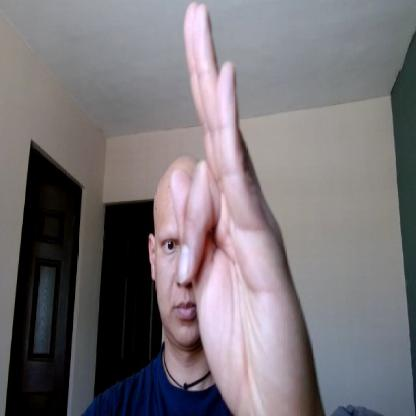F: (169, 0, 320, 415)
